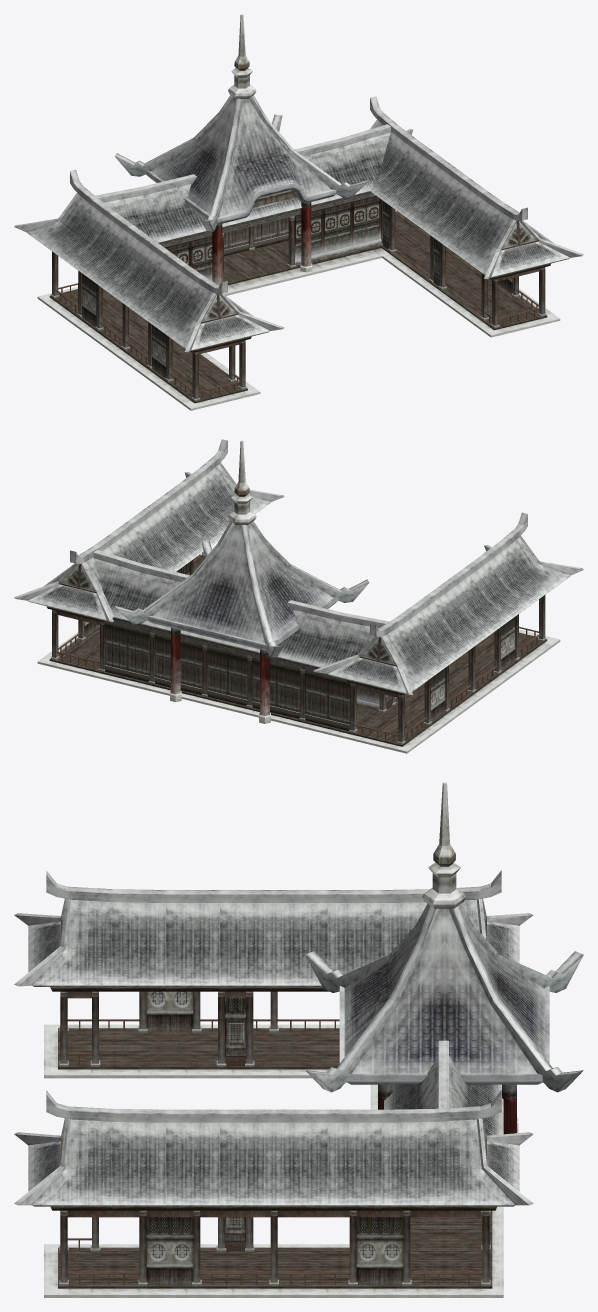
Rendered from snow_building04.fbx.
3 views of the same model, one above another, from view 1: azimuth 30°, elevation 25°; view 2: azimuth 150°, elevation 25°; view 3: azimuth 270°, elevation 25° (orthographic). The views are drawn at different scales.
Visible parts, largest first — view 1: snow_building04; view 2: snow_building04; view 3: snow_building04.
Part boxes in pixels (x1,y1,x2,y2): snow_building04: (14, 14, 583, 410); snow_building04: (14, 439, 583, 753); snow_building04: (14, 782, 583, 1297).
Size of the model in its own units: 69.19 by 41.96 by 57.02.
